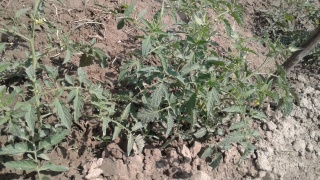tomato flower: (25, 9, 48, 26)
tomato plant: (147, 22, 286, 133), (3, 49, 106, 164)
